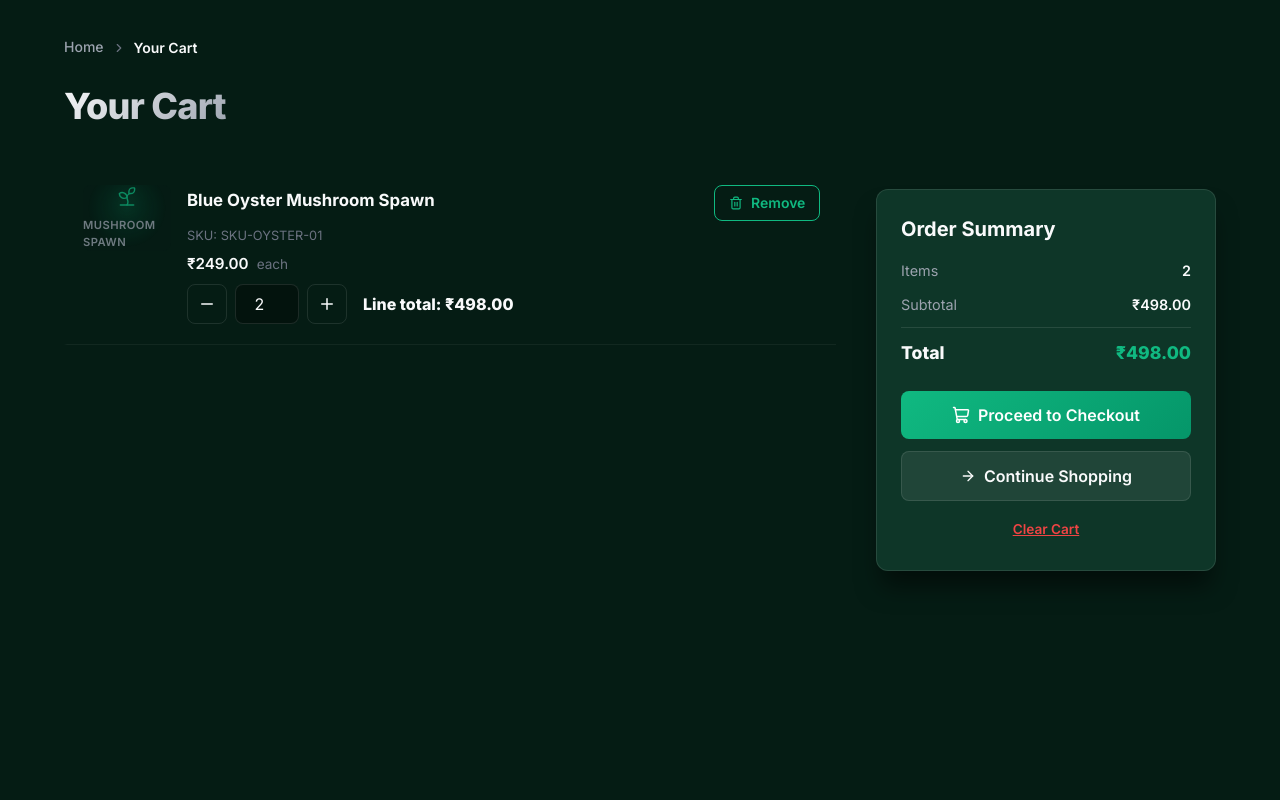
CartPage (FD-11) › clears the cart only after confirmation from the dialog
Expected: the element with test id "cart-item" is shown, x1=64 y1=165 x2=836 y2=345
Click the button with test id "clear-cart-trigger" at (1046, 529), box x1=1006 y1=513 x2=1086 y2=546
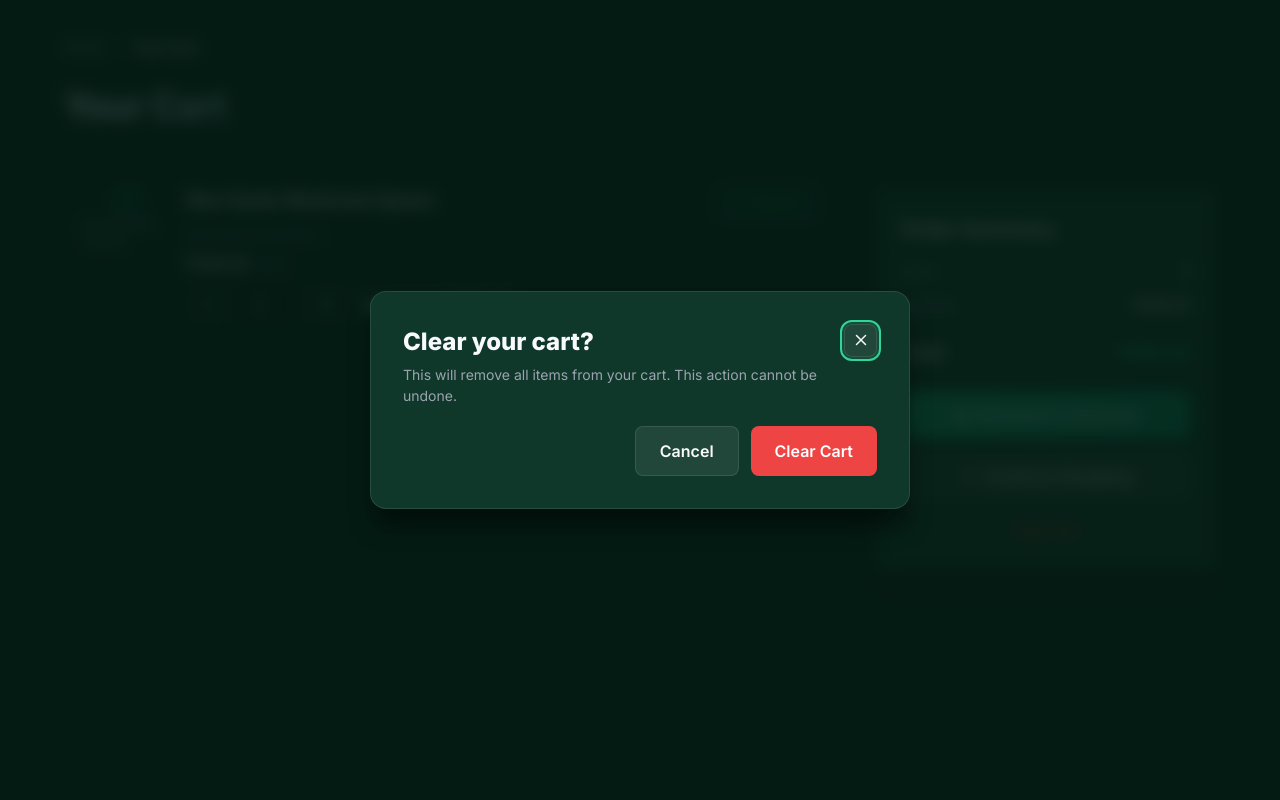
Expected: the dialog "Clear your cart?" is shown, x1=370 y1=291 x2=910 y2=509
Click the button "Clear Cart" at (814, 451), box x1=751 y1=426 x2=877 y2=476
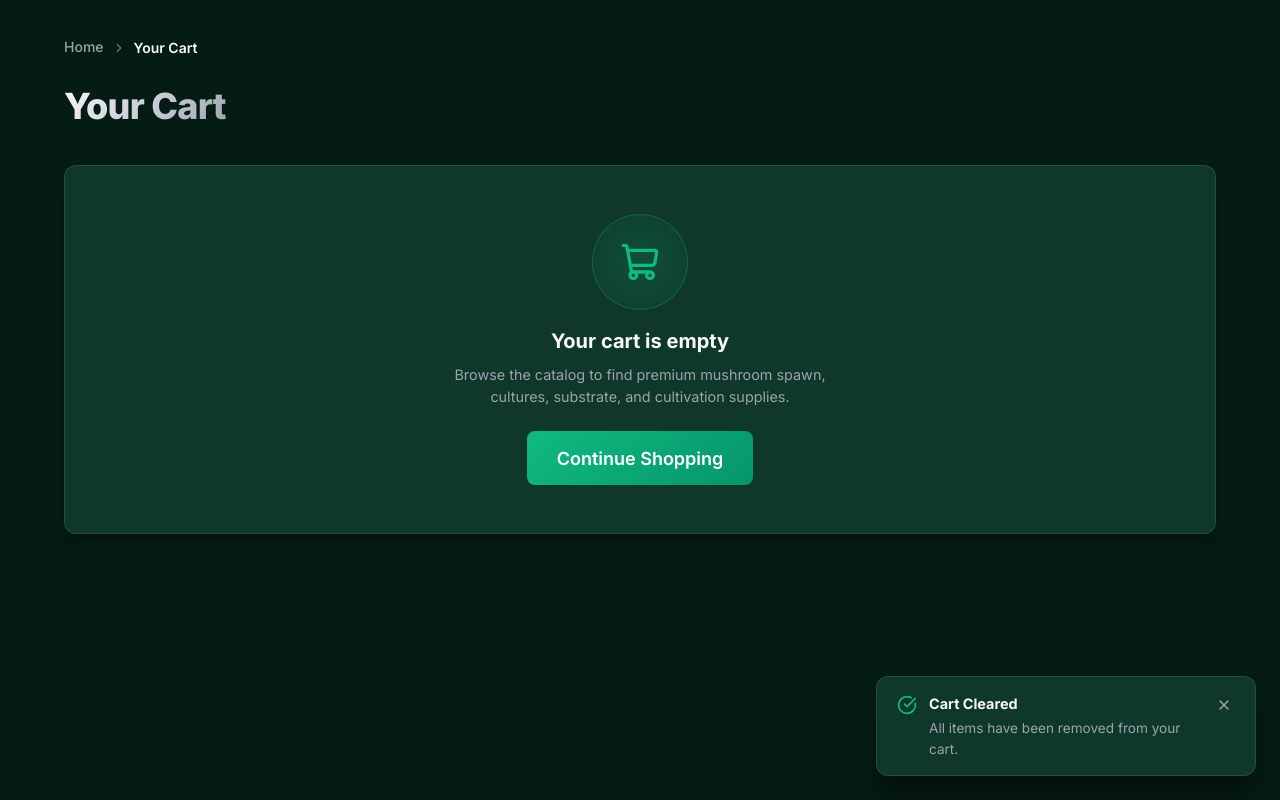
Expected: the element with test id "cart-empty" is shown, x1=64 y1=165 x2=1216 y2=534
